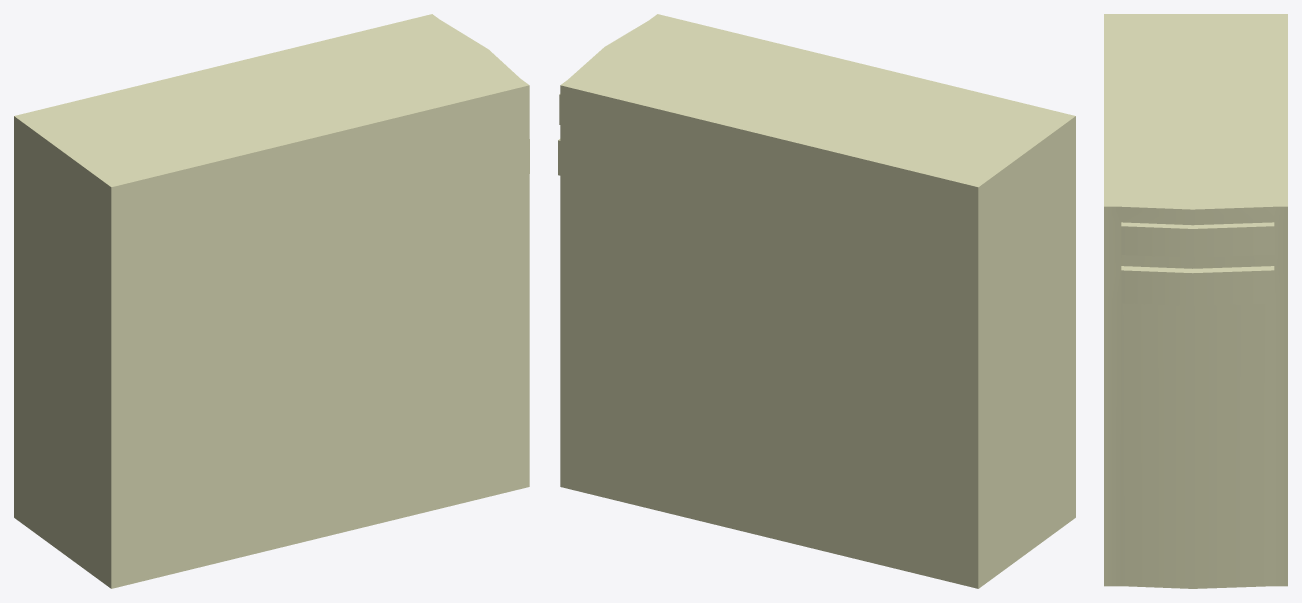
Rendered from pcTower.fbx.
3 views of the same model, side by side, from view 1: azimuth 30°, elevation 25°; view 2: azimuth 150°, elevation 25°; view 3: azimuth 270°, elevation 25° (orthographic). The views are drawn at different scales.
Visible parts, largest first — view 1: pCube33; view 2: pCube33; view 3: pCube33.
Part boxes in pixels (x1,y1,x2,y2): pCube33: [14, 14, 529, 588]; pCube33: [558, 14, 1075, 588]; pCube33: [1104, 14, 1287, 588].
Size of the model in its own units: 66.77 by 59.08 by 25.96.
